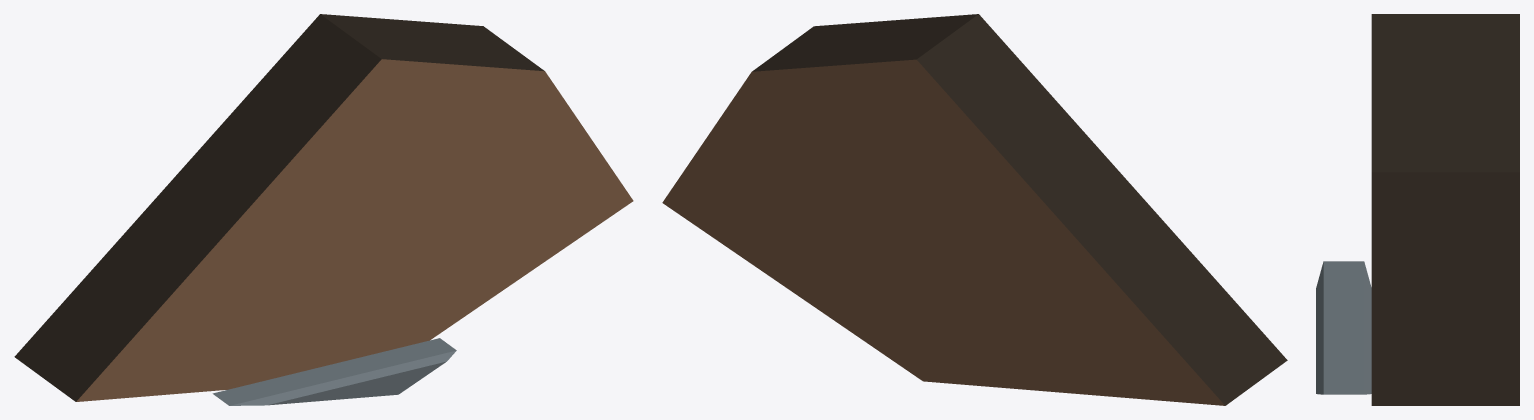
File: SM_DoorShard_03_52.fbx
3 views of the same model, side by side, from view 1: azimuth 30°, elevation 25°; view 2: azimuth 150°, elevation 25°; view 3: azimuth 270°, elevation 25° (orthographic). The views are drawn at different scales.
Parts seen in each view (by area): view 1: SM_DoorShard_03_52; view 2: SM_DoorShard_03_52; view 3: SM_DoorShard_03_52.
Boxes of the visible parts, x1=… form: SM_DoorShard_03_52: x1=14, y1=14, x2=633, y2=405; SM_DoorShard_03_52: x1=662, y1=14, x2=1287, y2=405; SM_DoorShard_03_52: x1=1316, y1=14, x2=1519, y2=405.
Size of the model in its own units: 83.55 by 22 by 45.4.
